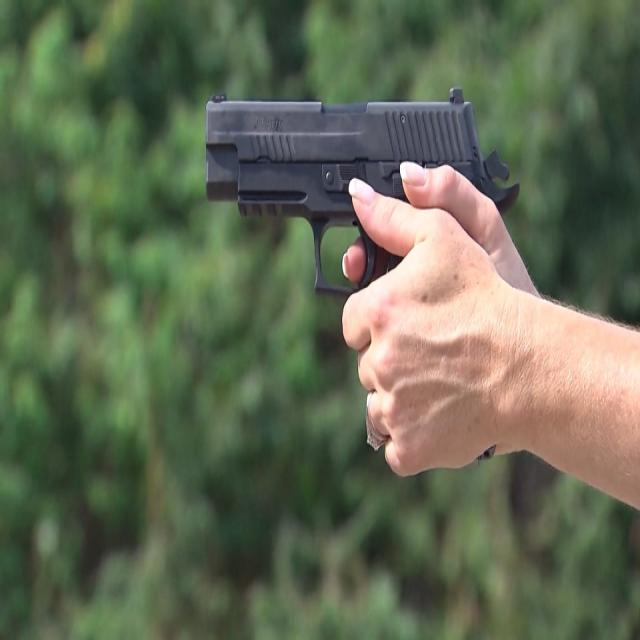Weapon: (199, 77, 511, 475)
